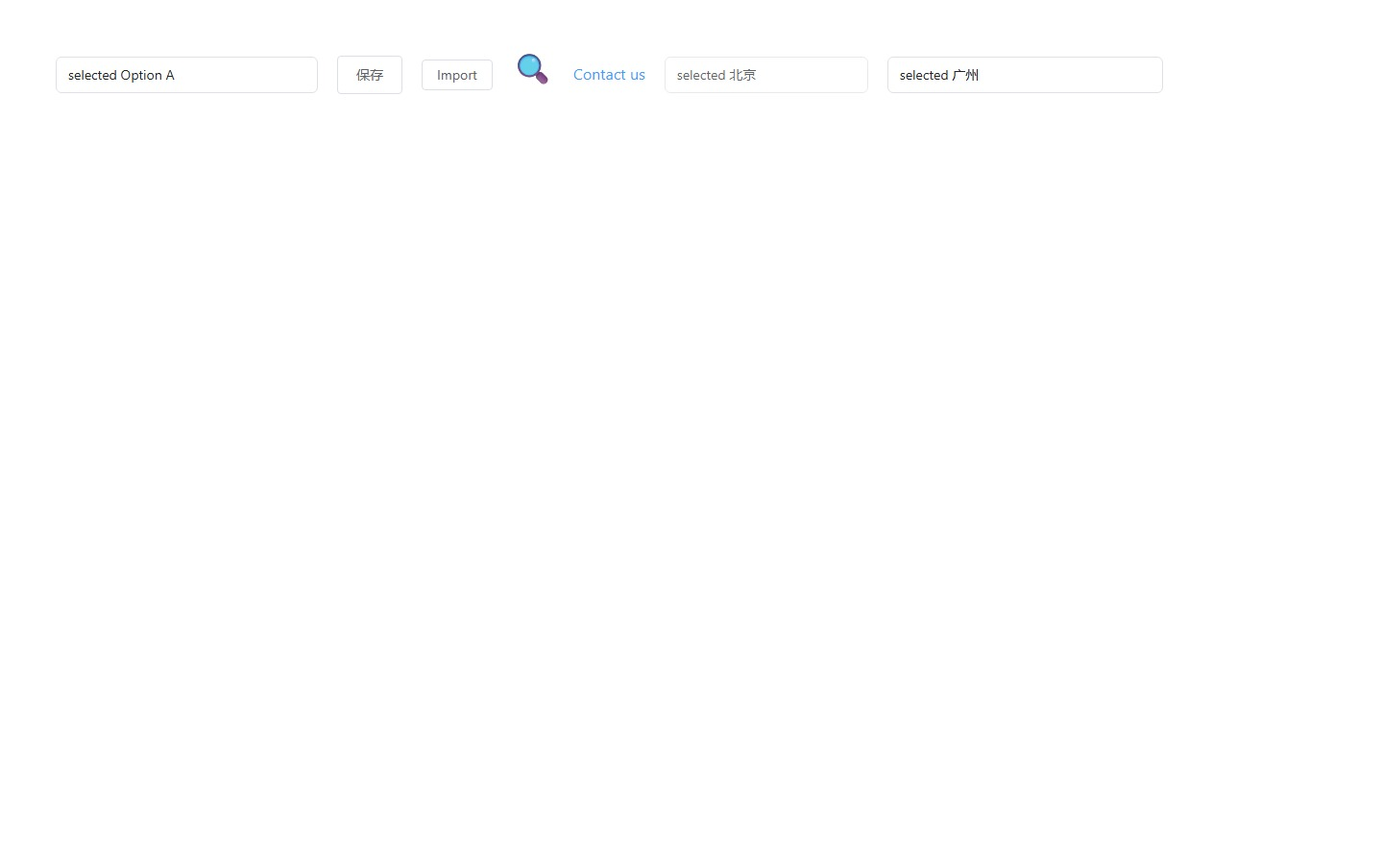button: (337, 56, 402, 94), (422, 60, 493, 90)
icon: (512, 52, 554, 83)
link: (573, 63, 645, 84)
select: (887, 56, 1163, 93), (56, 56, 318, 93), (664, 56, 868, 93)
